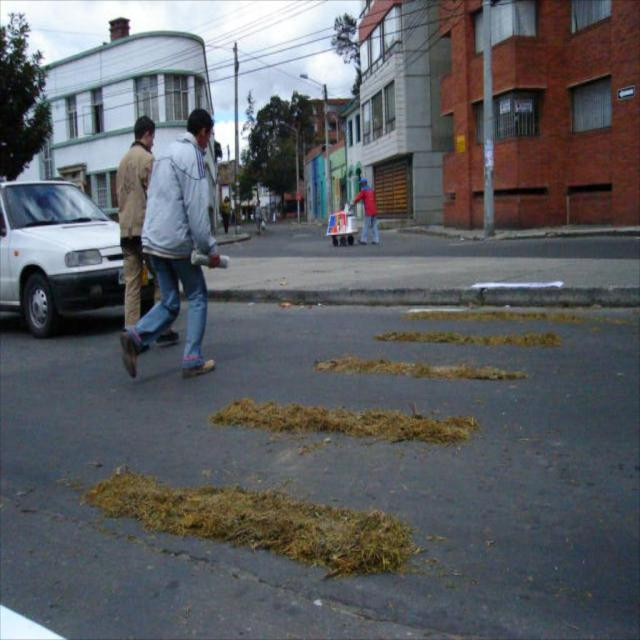car: (0, 173, 156, 335)
